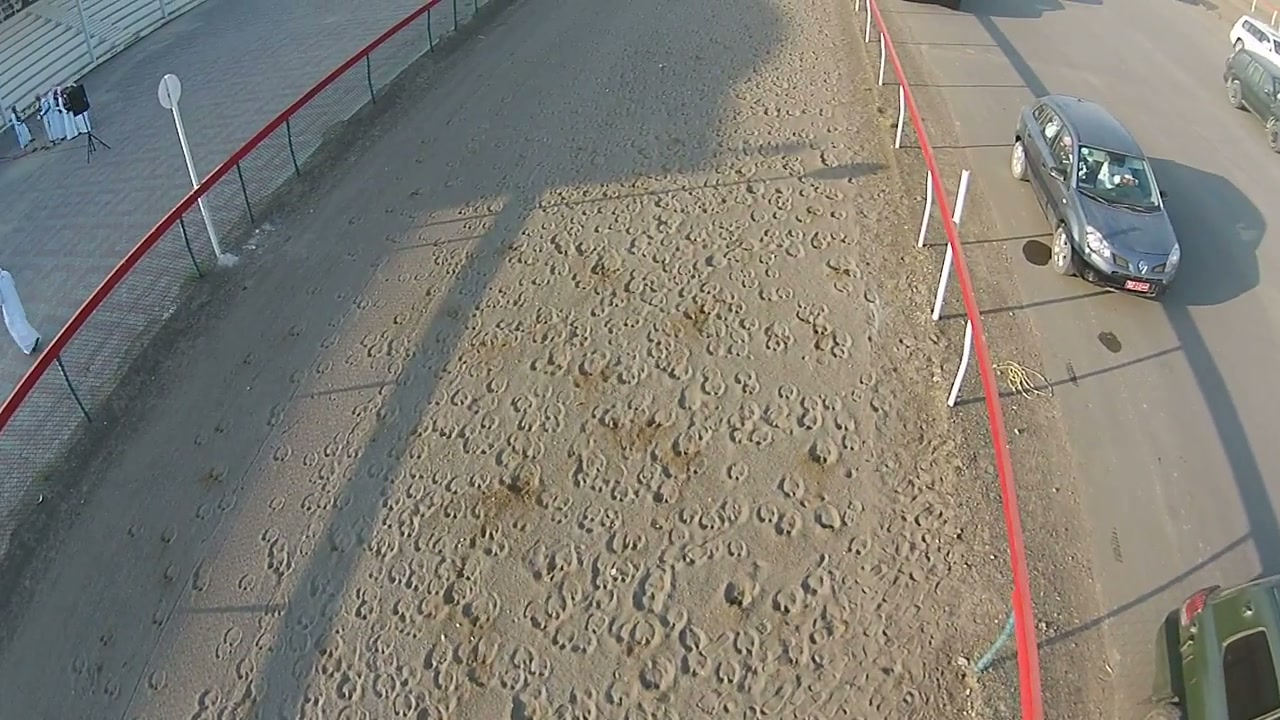animal_footprint: (60, 0, 1006, 719)
